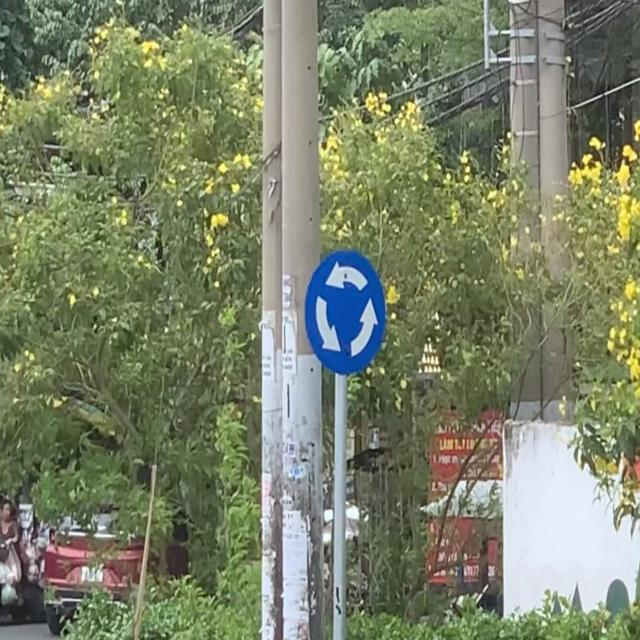Vong xuyen: (304, 248, 390, 376)
